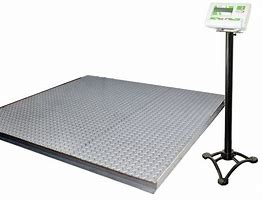Industrial Scale: (1, 3, 260, 195)
